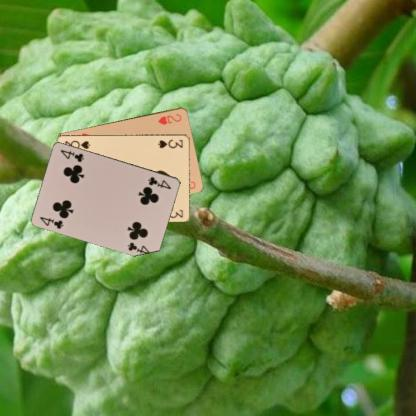2h: (156, 111, 182, 126)
3s: (155, 136, 184, 150)
4c: (37, 214, 64, 230), (146, 174, 172, 190)
